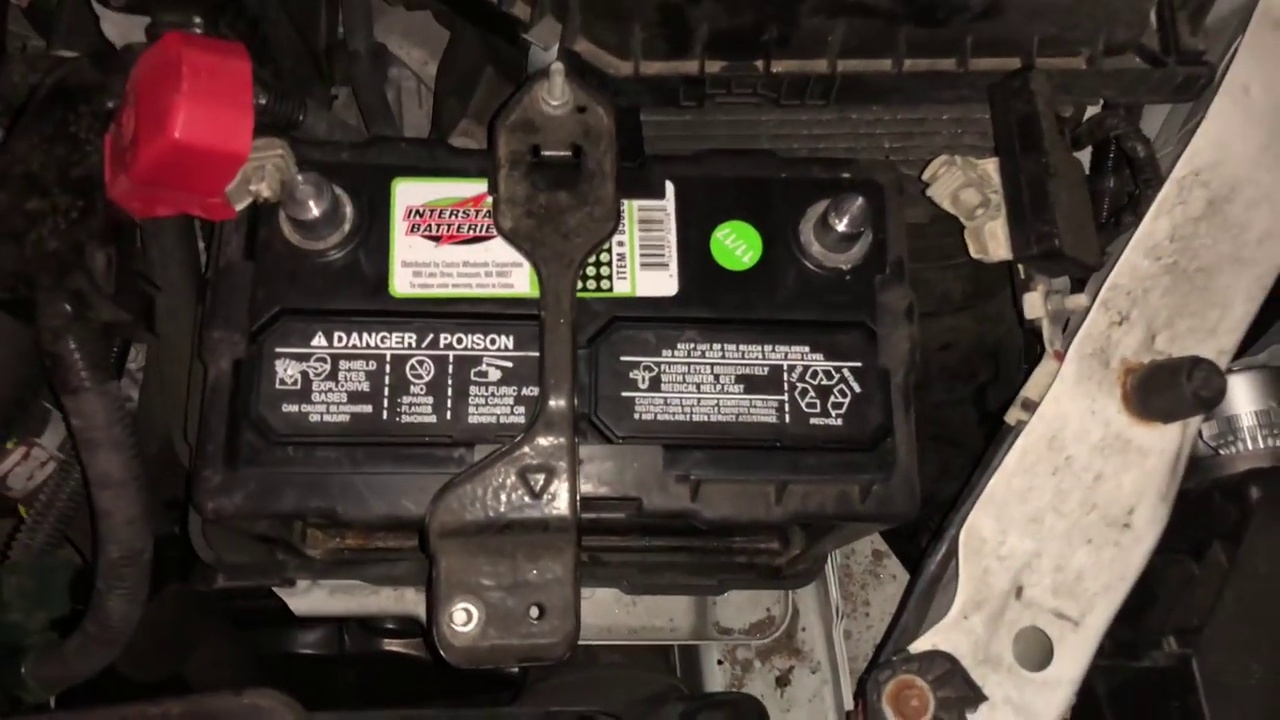battery: (197, 120, 897, 488)
neg_disconnected: (789, 169, 887, 275)
pos_disconnected: (93, 65, 347, 256)
